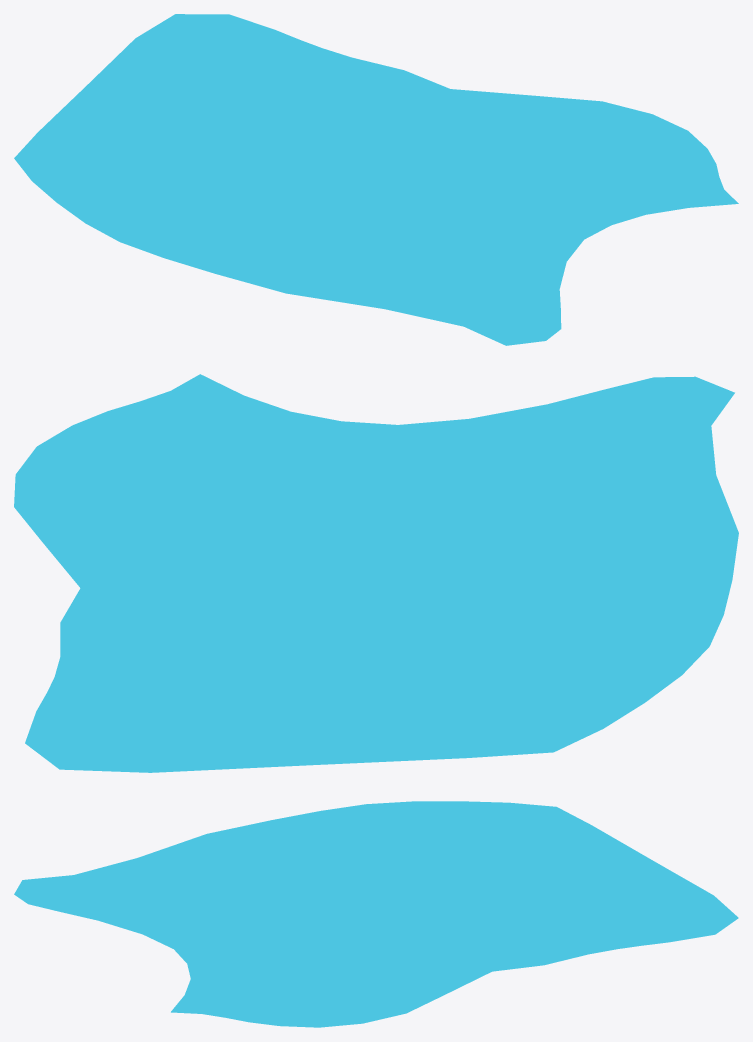
Rendered from vungnc.fbx.
The picture shows the model from 3 angles, top to bottom: view 1: azimuth 30°, elevation 25°; view 2: azimuth 150°, elevation 25°; view 3: azimuth 270°, elevation 25°; orthographic projection. The views are drawn at different scales.
Parts seen in each view (by area): view 1: Plane; view 2: Plane; view 3: Plane.
Part boxes in pixels (<box>): Plane: <box>14,14,738,345</box>; Plane: <box>14,374,738,772</box>; Plane: <box>14,801,738,1027</box>.
Size of the model in its own units: 248 by 2.05e-14 by 335.
